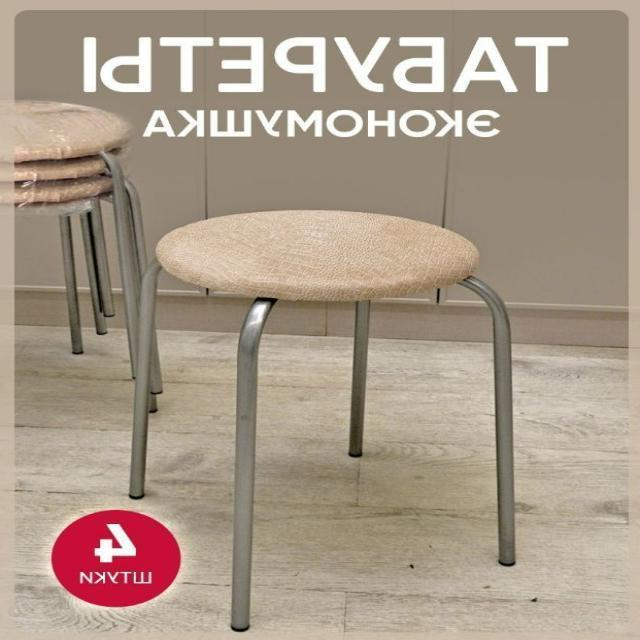chair: (123, 204, 522, 632)
